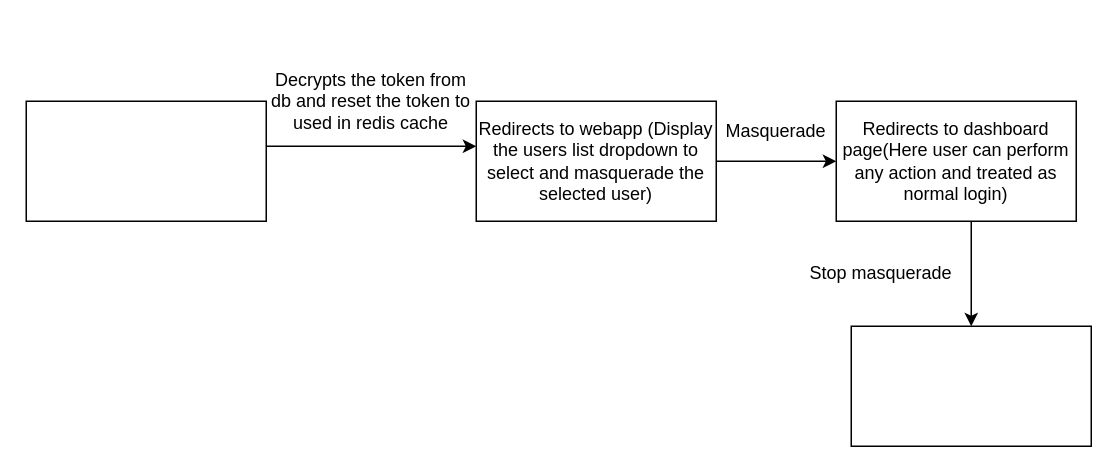
The diagram is 1118 pixels wide and 473 high, and some of its shapes have lost their labels. Here are the shapes that lost their labels. From the top down, the centre of each, then its label:
the point at 145,160: Masquerade link from cars
the point at 970,385: Redirects to Login page
